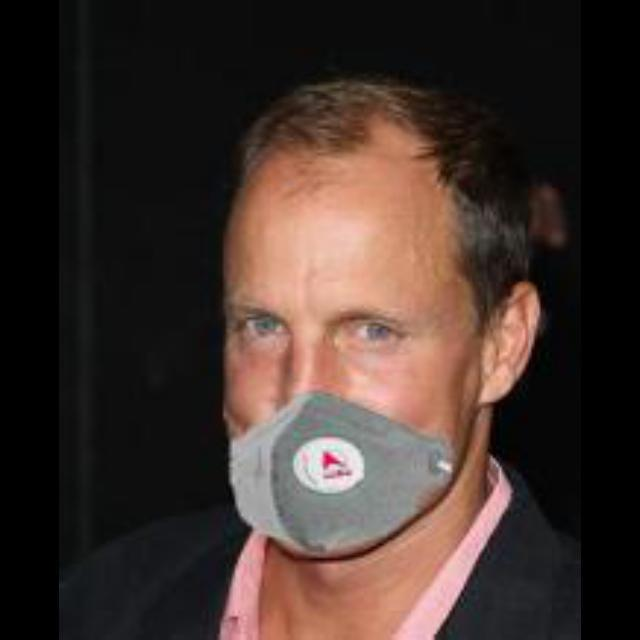suspicion: (208, 85, 512, 563)
